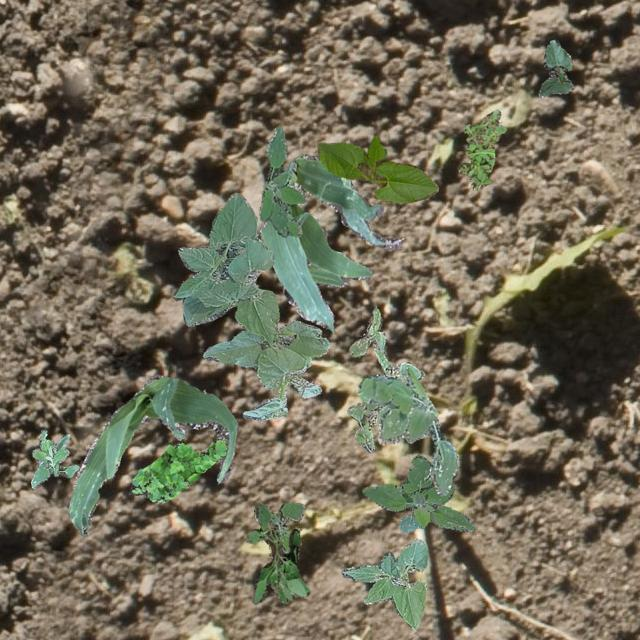crop: (172, 192, 328, 418), (68, 374, 236, 536), (259, 154, 402, 332), (316, 134, 438, 202), (340, 538, 428, 628), (538, 38, 572, 96)
weed: (358, 366, 458, 494), (346, 306, 424, 452), (362, 454, 474, 532), (244, 502, 308, 604), (128, 436, 226, 502), (258, 126, 304, 236), (456, 108, 506, 188), (30, 428, 78, 488), (252, 502, 304, 552)
